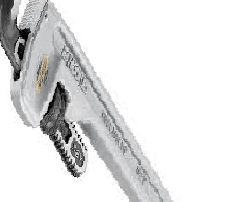Wrench: (2, 1, 179, 202)
